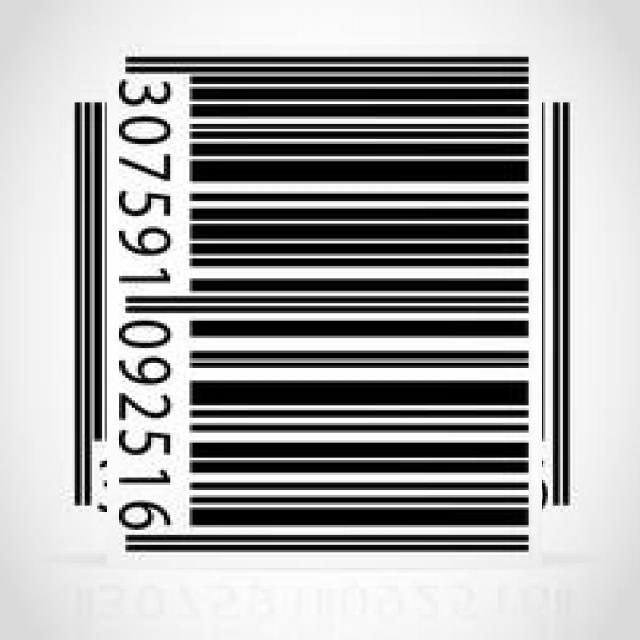Barkod: (83, 66, 564, 546)
